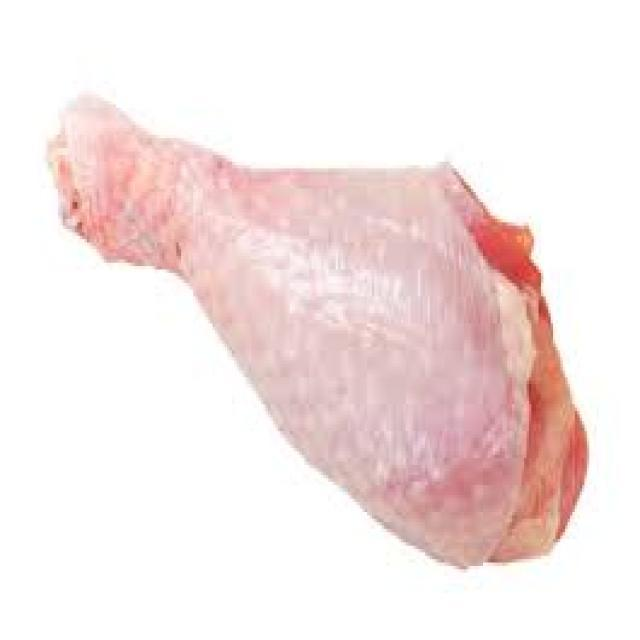leg: (46, 83, 584, 594)
